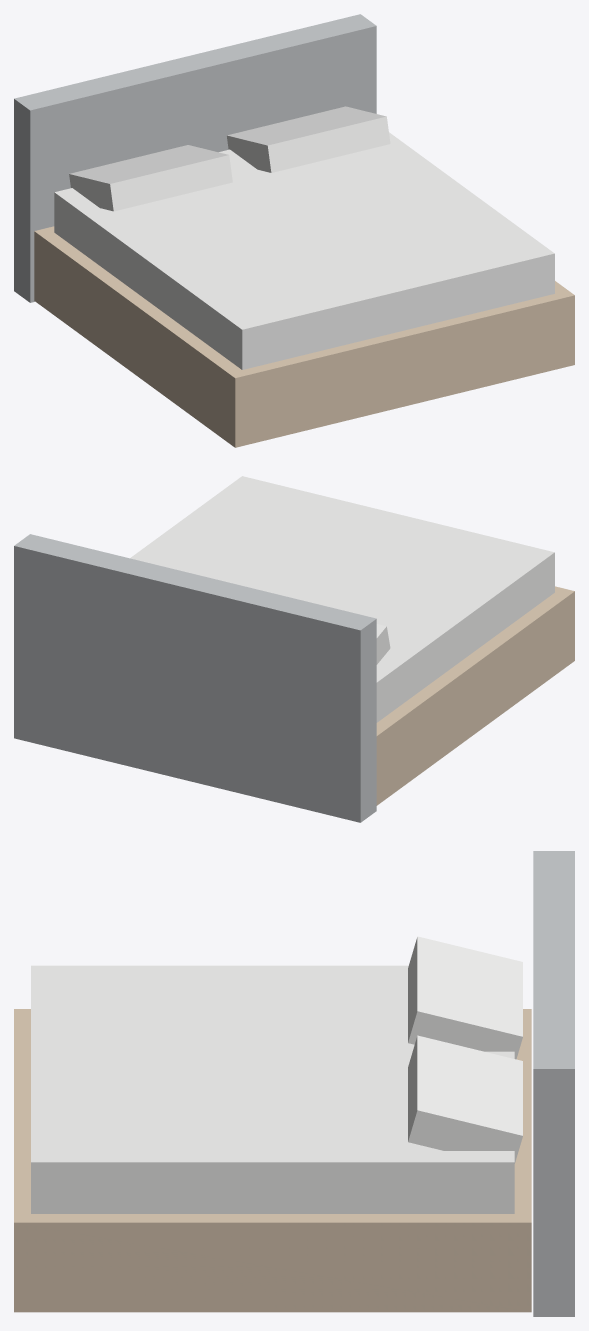
The model's file is BED-003.glb.
The picture shows the model from 3 angles, top to bottom: view 1: azimuth 30°, elevation 25°; view 2: azimuth 150°, elevation 25°; view 3: azimuth 270°, elevation 25°; orthographic projection. The views are drawn at different scales.
Parts seen in each view (by area): view 1: Cube.001, Cube, Cube.002, Cube.004, Cube.003; view 2: Cube.002, Cube.001, Cube; view 3: Cube.001, Cube, Cube.002, Cube.004, Cube.003.
Boxes of the visible parts, x1,y1,x2,y2 form: Cube.001: (54, 132, 554, 369); Cube: (34, 226, 574, 447); Cube.002: (14, 14, 376, 302); Cube.004: (226, 106, 390, 172); Cube.003: (69, 145, 232, 211); Cube.002: (14, 534, 376, 822); Cube.001: (130, 476, 554, 722); Cube: (376, 586, 574, 805); Cube.001: (31, 965, 514, 1213); Cube: (14, 1009, 531, 1312); Cube.002: (533, 851, 574, 1316); Cube.004: (408, 1035, 522, 1163); Cube.003: (408, 936, 522, 1059).
Size of the model in its own units: 1.98 by 1.05 by 2.15.
